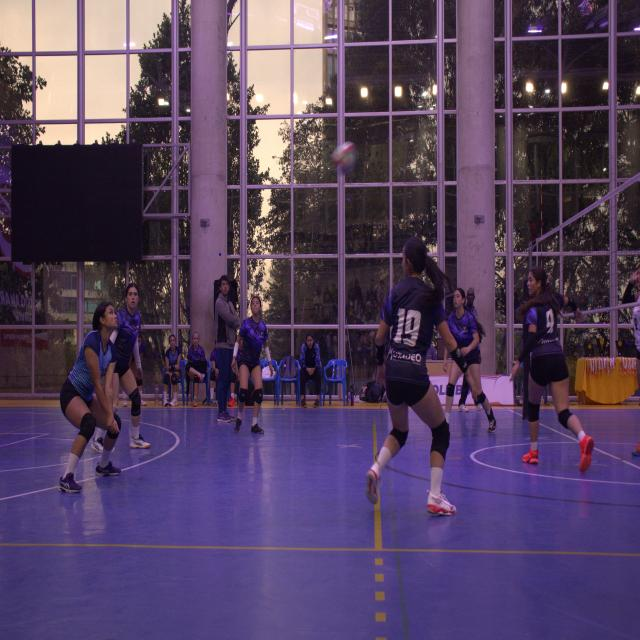volleyball: (331, 142, 356, 174)
